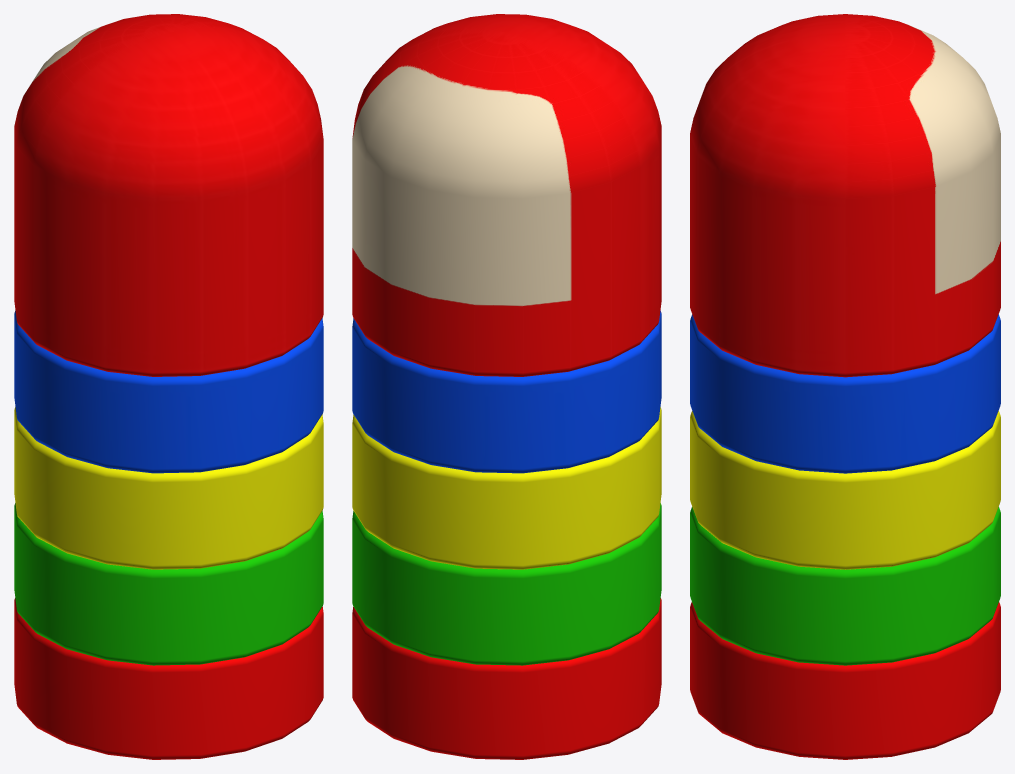
Rendered from darumaotoshi-noface.fbx.
The picture shows the model from 3 angles, left to right: view 1: azimuth 30°, elevation 25°; view 2: azimuth 150°, elevation 25°; view 3: azimuth 270°, elevation 25°; orthographic projection.
Parts seen in each view (by area): view 1: darumaotoshi_noface; view 2: darumaotoshi_noface; view 3: darumaotoshi_noface.
Boxes of the visible parts, box(x1,y1,x2,y2) form: darumaotoshi_noface: box(14, 14, 323, 759); darumaotoshi_noface: box(352, 14, 661, 759); darumaotoshi_noface: box(690, 14, 1000, 759).
Size of the model in its own units: 2 by 4.72 by 2.
1 material, 1 textured.
